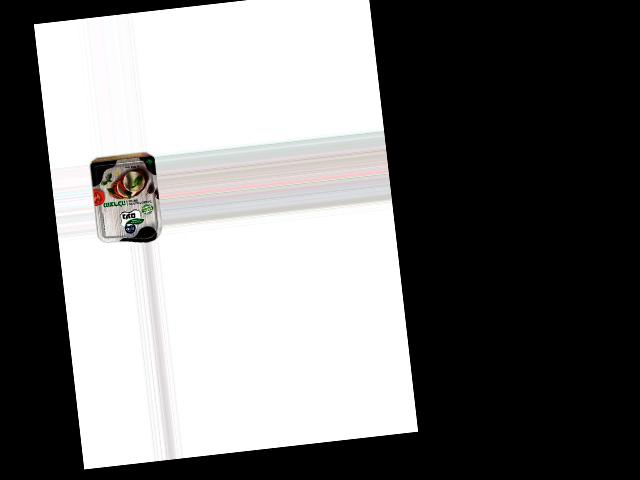cheese: (88, 154, 163, 246)
